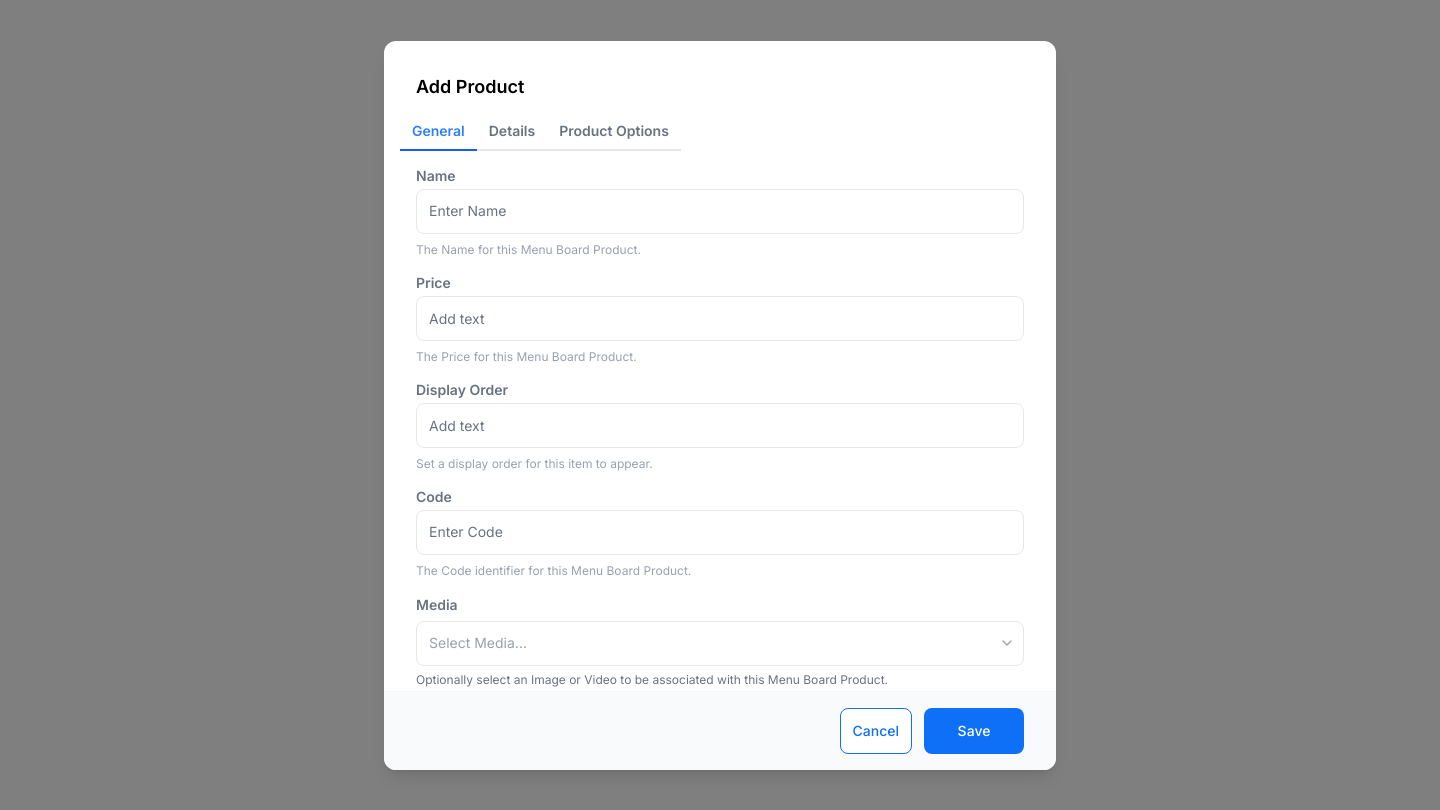
Test: AddAndEditMenuBoardProductModal › Product Options tab › adds a new option row when the "+" button is clicked
The image size is (1440, 810).
What coordinates should you click on to do the following:
click the button "Product Options"
I would click on:
 (614, 132)
Its box is [547,112,681,150].
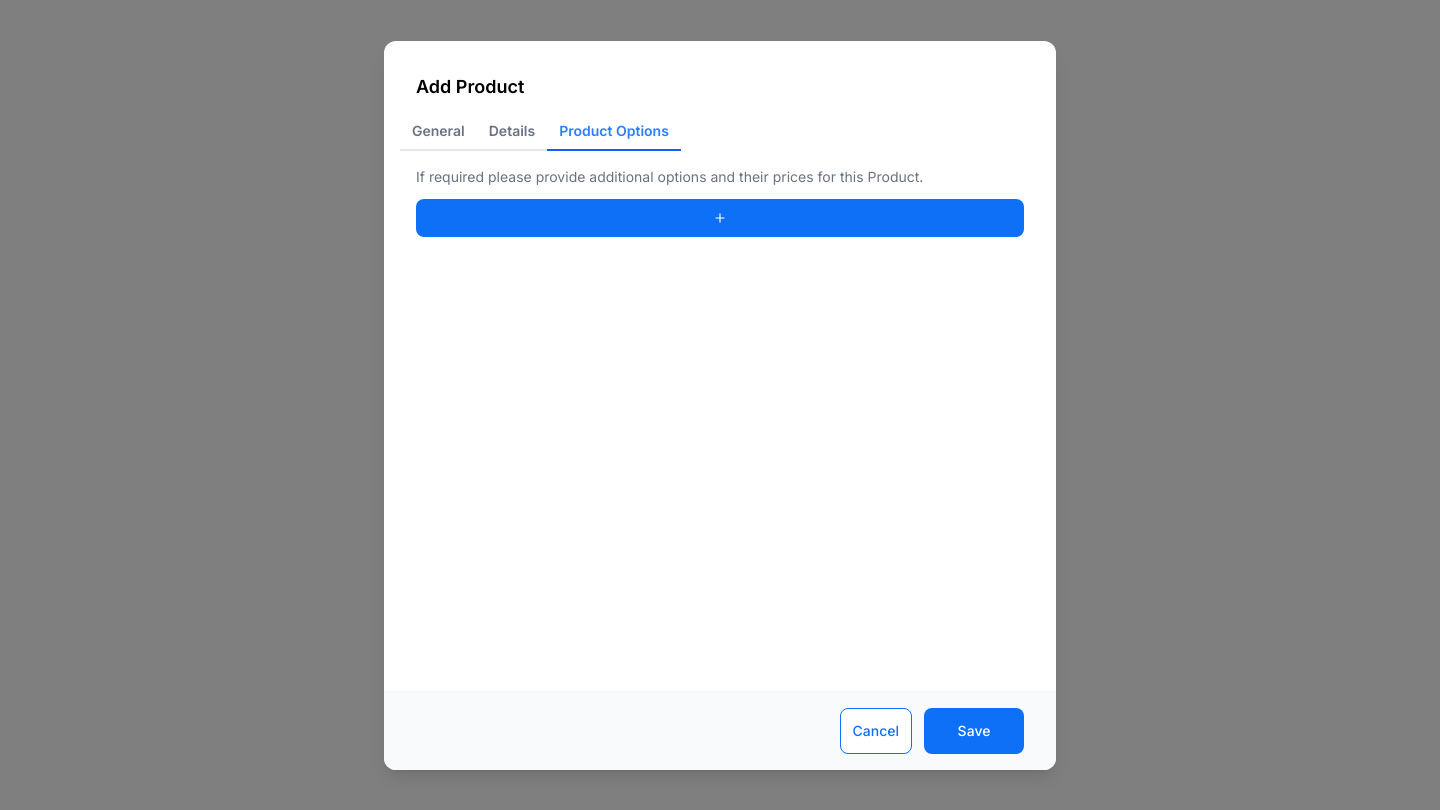
What coordinates should you click on to do the following:
click the 4th button
I would click on:
 (720, 218)
Its box is [416,198,1024,236].
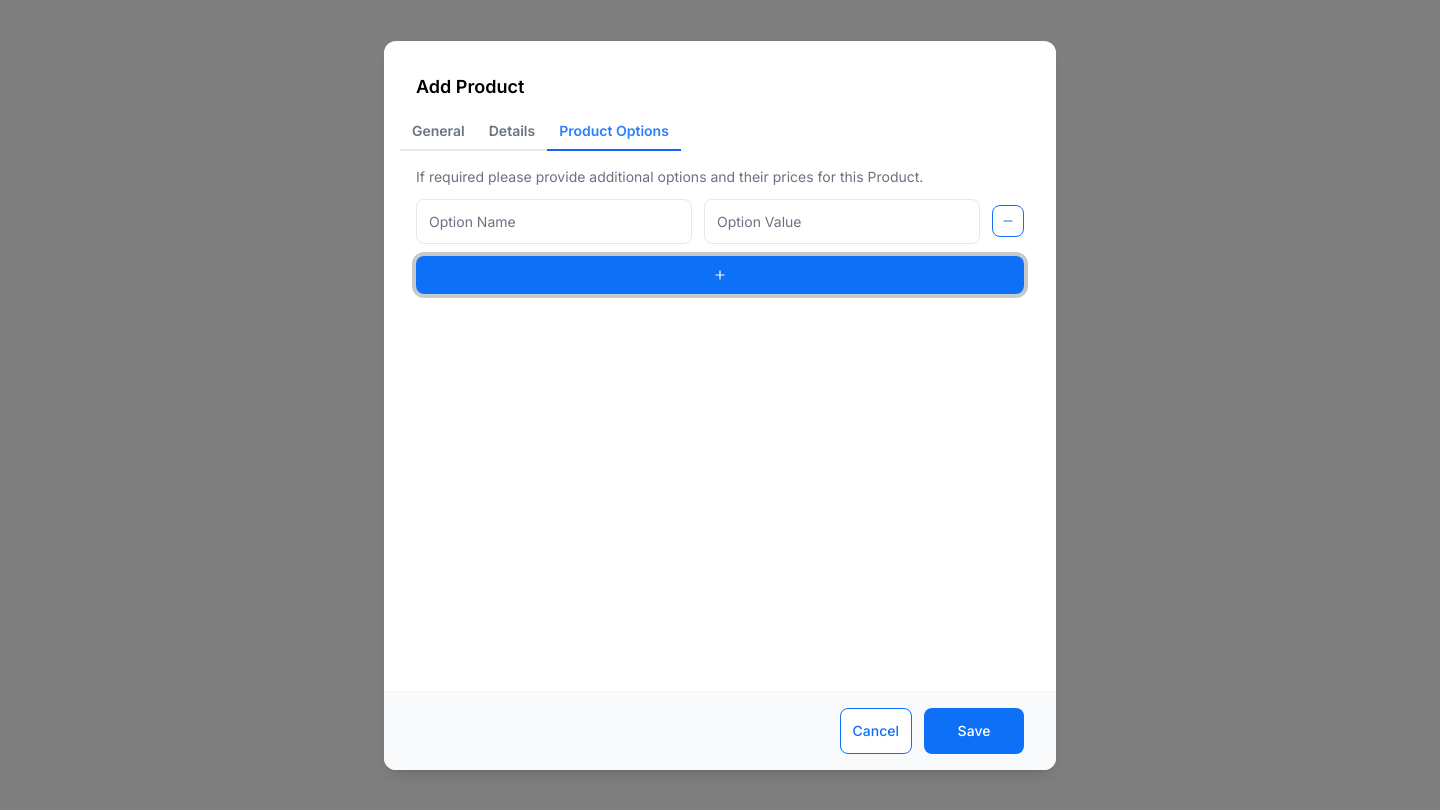
Now the number of fields with placeholder "Option Name" is 1, box [416,198,692,244]
Now the number of number fields with placeholder "Option Value" is 1, box [704,198,980,244]
